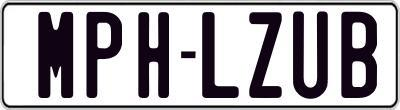B: (341, 10, 380, 100)
H: (137, 10, 174, 97)
L: (200, 11, 238, 97)
M: (36, 12, 76, 104)
P: (84, 10, 123, 96)
U: (293, 8, 333, 101)
Z: (246, 9, 280, 100)
